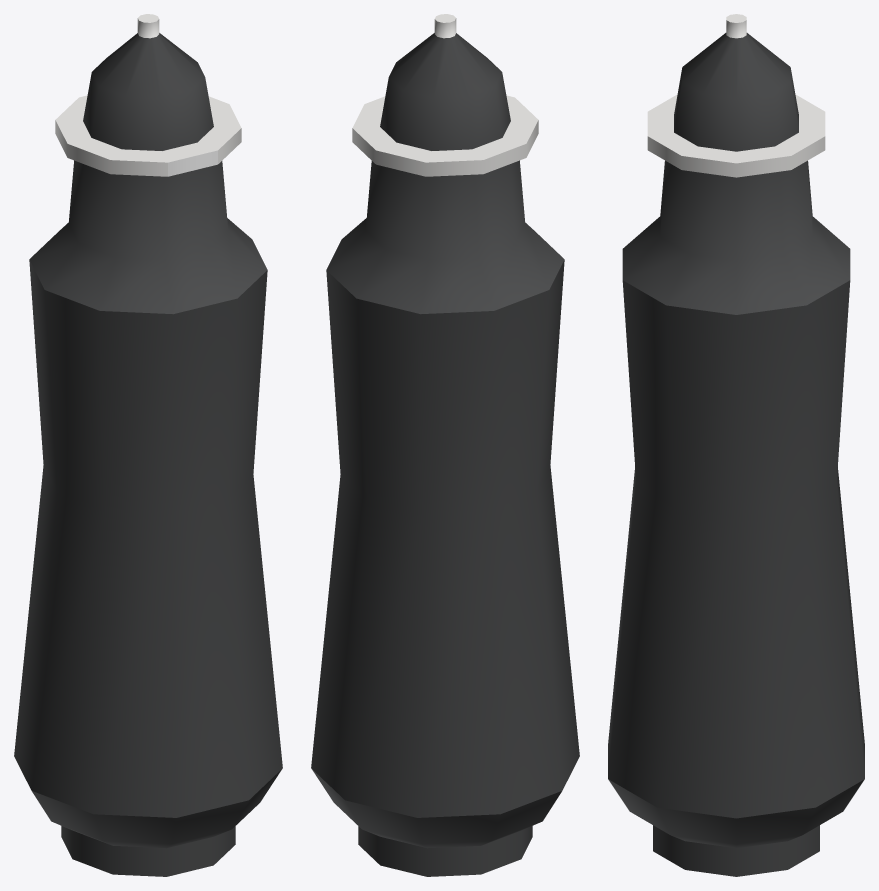
File: SM_pottery_arabian_001.fbx
The picture shows the model from 3 angles, left to right: view 1: azimuth 30°, elevation 25°; view 2: azimuth 150°, elevation 25°; view 3: azimuth 270°, elevation 25°; orthographic projection.
Parts seen in each view (by area): view 1: Cylinder015; view 2: Cylinder015; view 3: Cylinder015.
Boxes of the visible parts, left/top/right/bottom form: Cylinder015: left=14, top=14, right=282, bottom=876; Cylinder015: left=311, top=14, right=579, bottom=876; Cylinder015: left=608, top=14, right=864, bottom=876.
Bounding box in the file's own units: 11.6 × 11.04 × 38.95.
